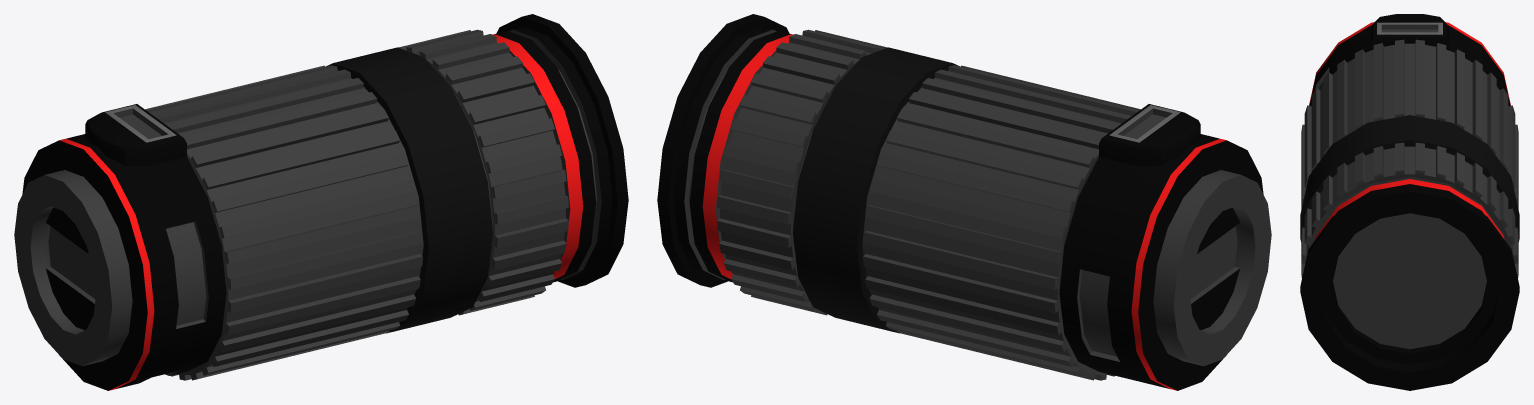
File: CameraLens_03.glb
3 views of the same model, side by side, from view 1: azimuth 30°, elevation 25°; view 2: azimuth 150°, elevation 25°; view 3: azimuth 270°, elevation 25° (orthographic). The views are drawn at different scales.
Visible parts, largest first — view 1: Mesh_CameraLens_03; view 2: Mesh_CameraLens_03; view 3: Mesh_CameraLens_03.
Part boxes in pixels (x1,y1,x2,y2): Mesh_CameraLens_03: (14, 14, 628, 390); Mesh_CameraLens_03: (657, 14, 1271, 390); Mesh_CameraLens_03: (1300, 14, 1519, 390).
Size of the model in its own units: 0.1787 by 0.0873 by 0.0865.
Materials: 1 (1 with a texture image).
